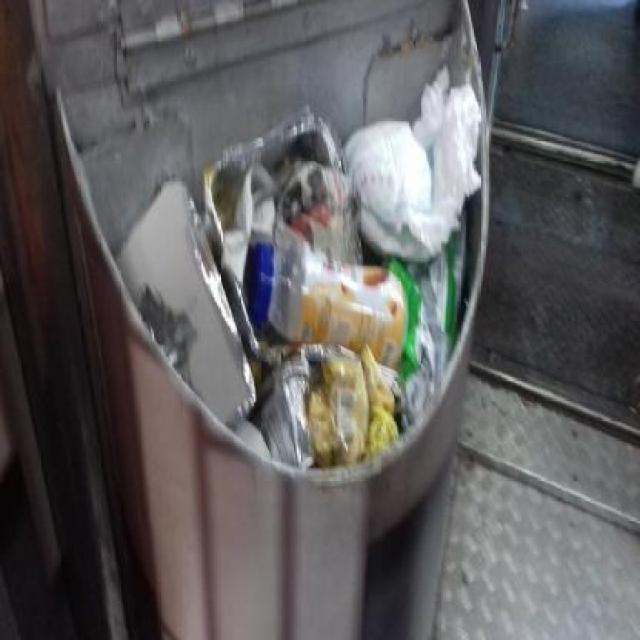garbage: (120, 142, 460, 438)
